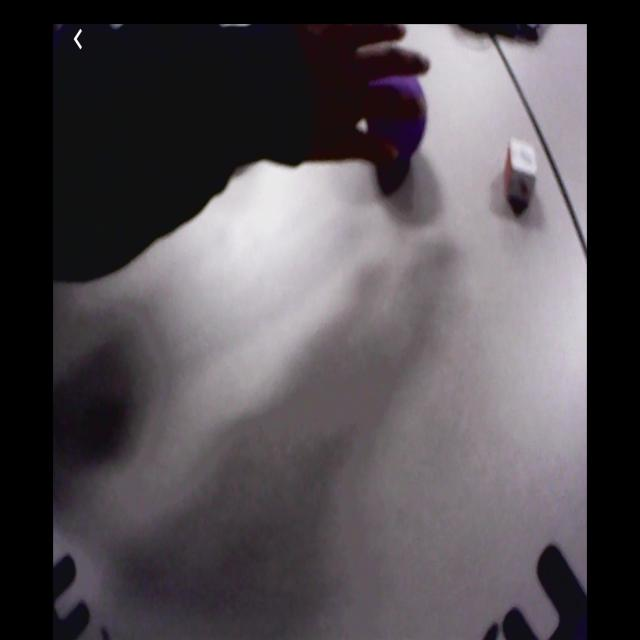ball: (368, 68, 428, 153)
